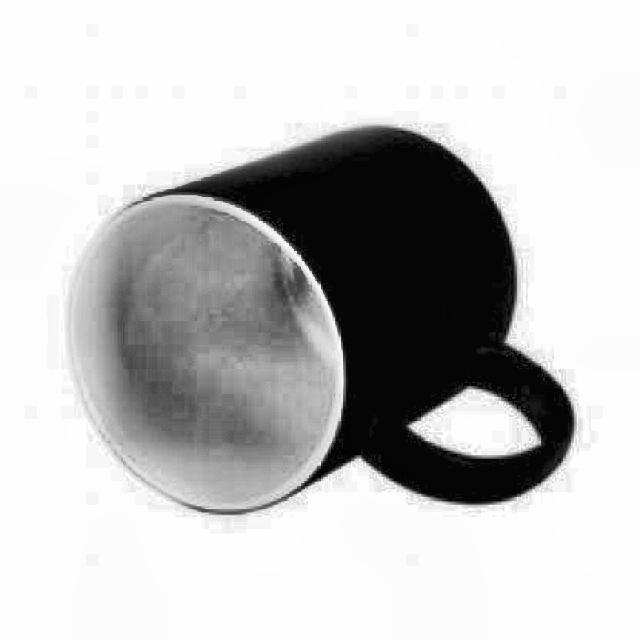Mug: (64, 123, 576, 520)
